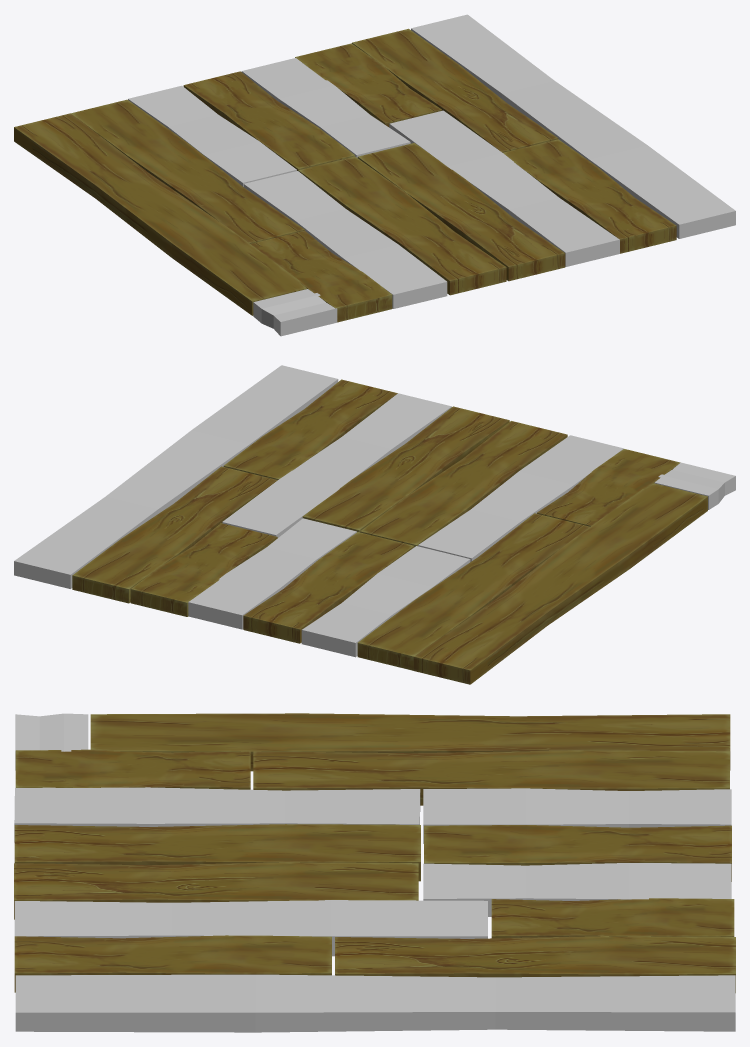
The model's file is WoodenFloor.fbx.
3 views of the same model, one above another, from view 1: azimuth 30°, elevation 25°; view 2: azimuth 150°, elevation 25°; view 3: azimuth 270°, elevation 25° (orthographic). The views are drawn at different scales.
Visible parts, largest first — view 1: Wooden_plank_1.021; view 2: Wooden_plank_1.021; view 3: Wooden_plank_1.021.
Part boxes in pixels (x1,y1,x2,y2): Wooden_plank_1.021: (14, 14, 735, 336); Wooden_plank_1.021: (14, 365, 735, 684); Wooden_plank_1.021: (14, 713, 735, 1032).
Size of the model in its own units: 2.3 by 0.071 by 2.34.
